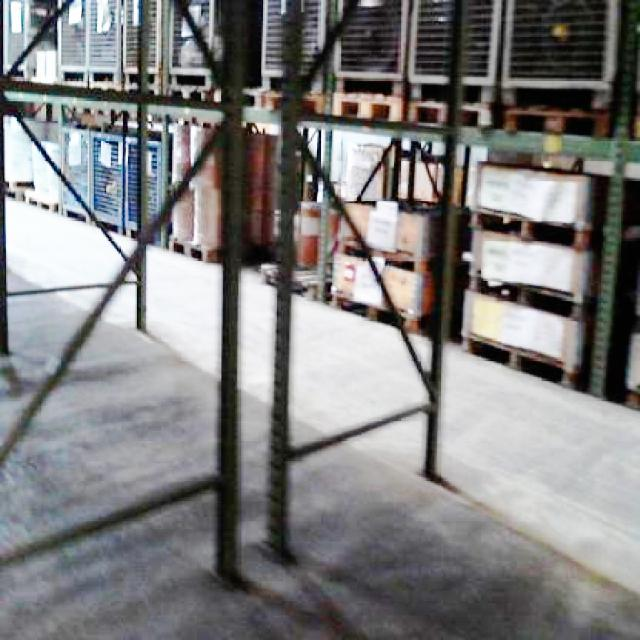ground: (0, 180, 638, 638)
pallet: (254, 86, 638, 412), (458, 157, 594, 386), (168, 118, 278, 263)
